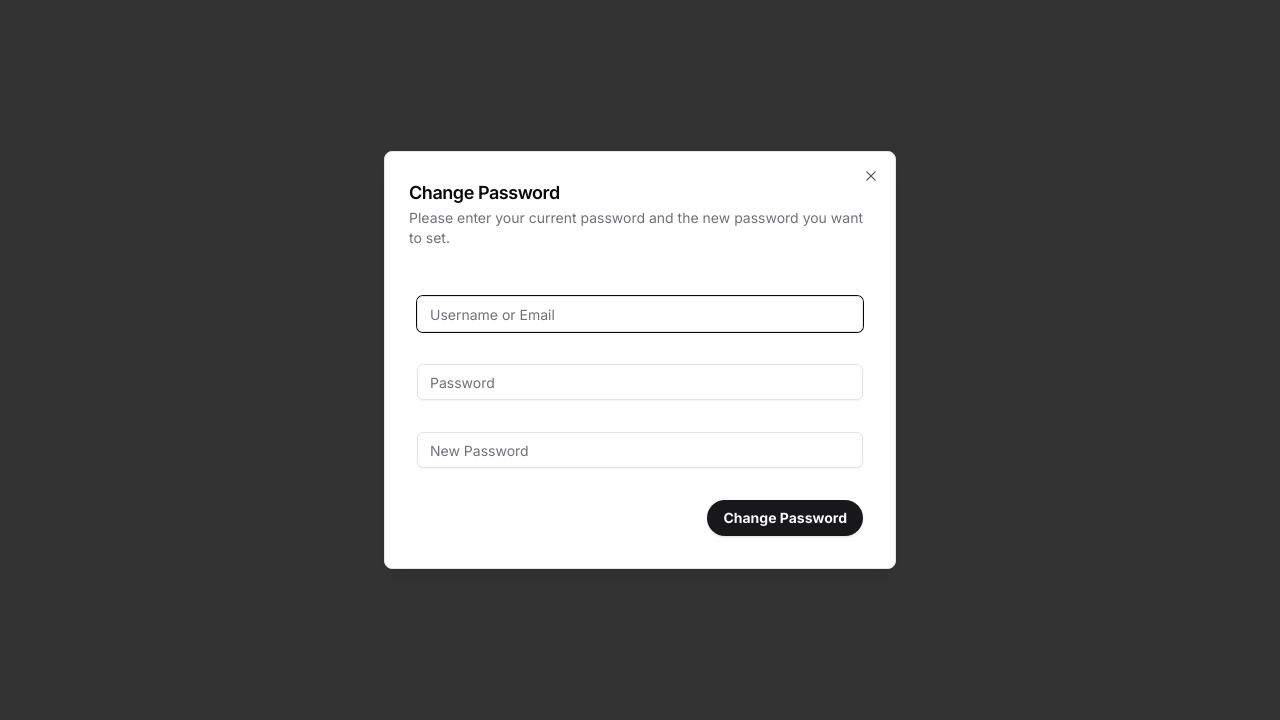
ChangePasswordModal › should show validation error when fields are empty
Click the button "Change Password" at (785, 518), box [707, 500, 863, 536]
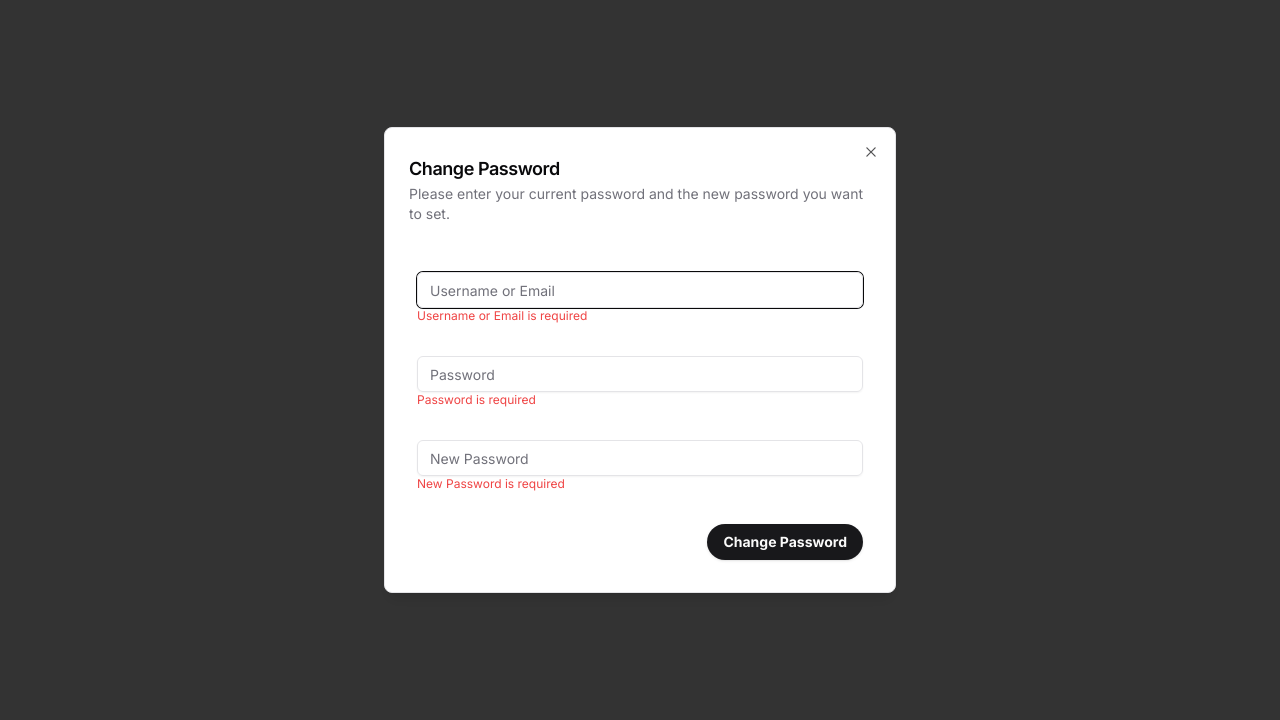
Now the text "Username or Email is required" is shown, box [417, 308, 587, 323]
Now the text "Password is required" is shown, box [417, 392, 536, 407]
Now the text "New Password is required" is shown, box [417, 476, 565, 491]
